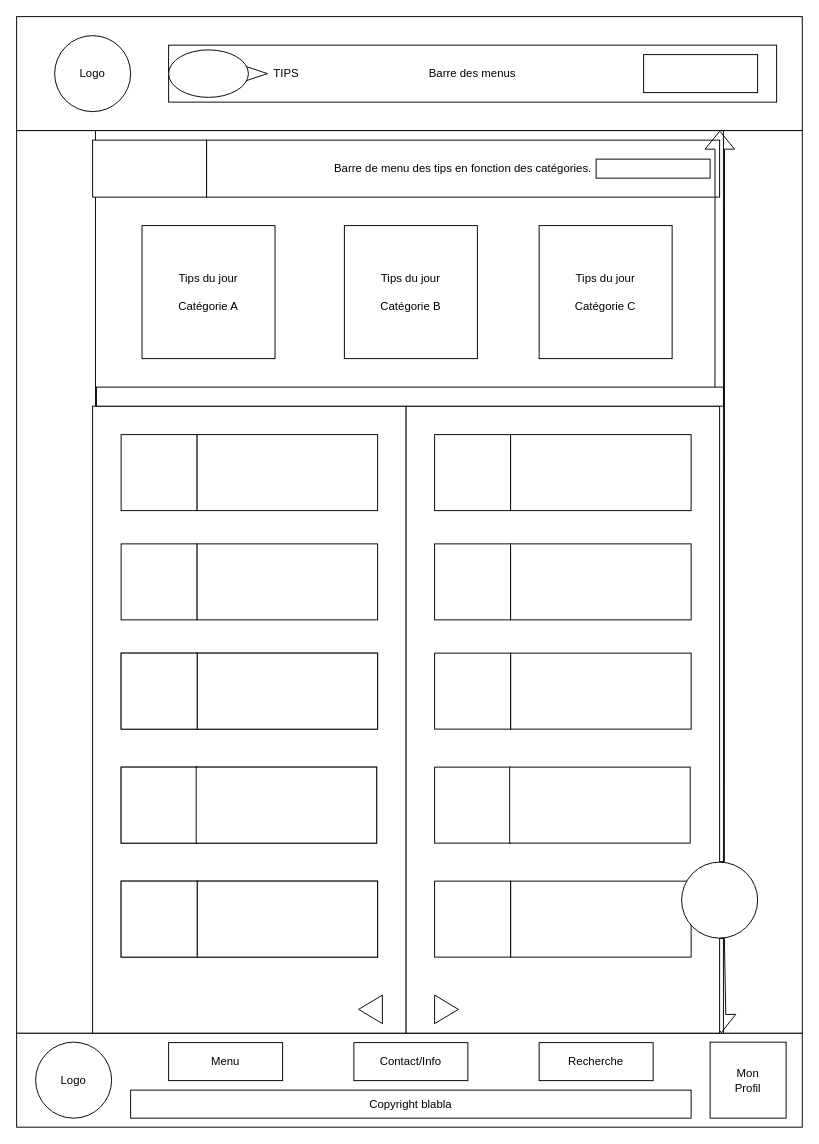
Some shapes in this 819 by 1144 pixel diagram are drawn without their labels. The shapes that lost their labels are listed below. From the top down, each one's centre as x and y in pixels, then its label:
At point (208, 73): "Couleurs inversées".
At point (700, 73): "Barre de recherche".
At point (149, 168): "Titre de menu".
At point (652, 168): "Barre de recherche de tips".
At point (719, 899): "Remonter en haut de page".
